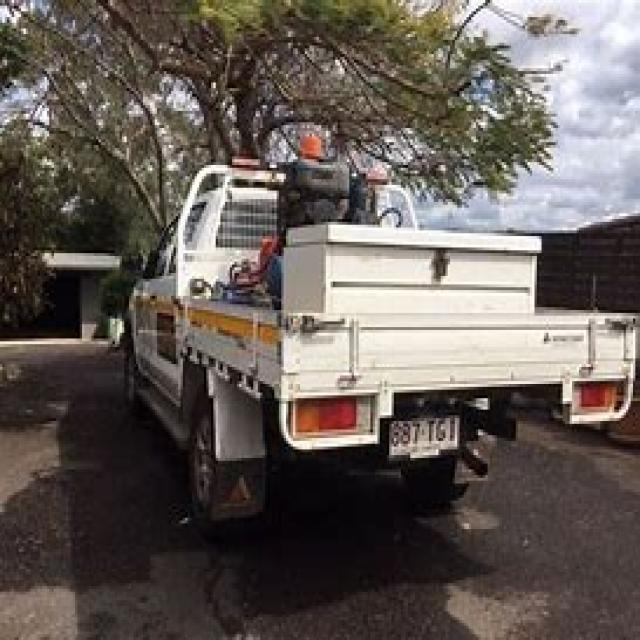light_vehicle: (99, 120, 636, 520)
